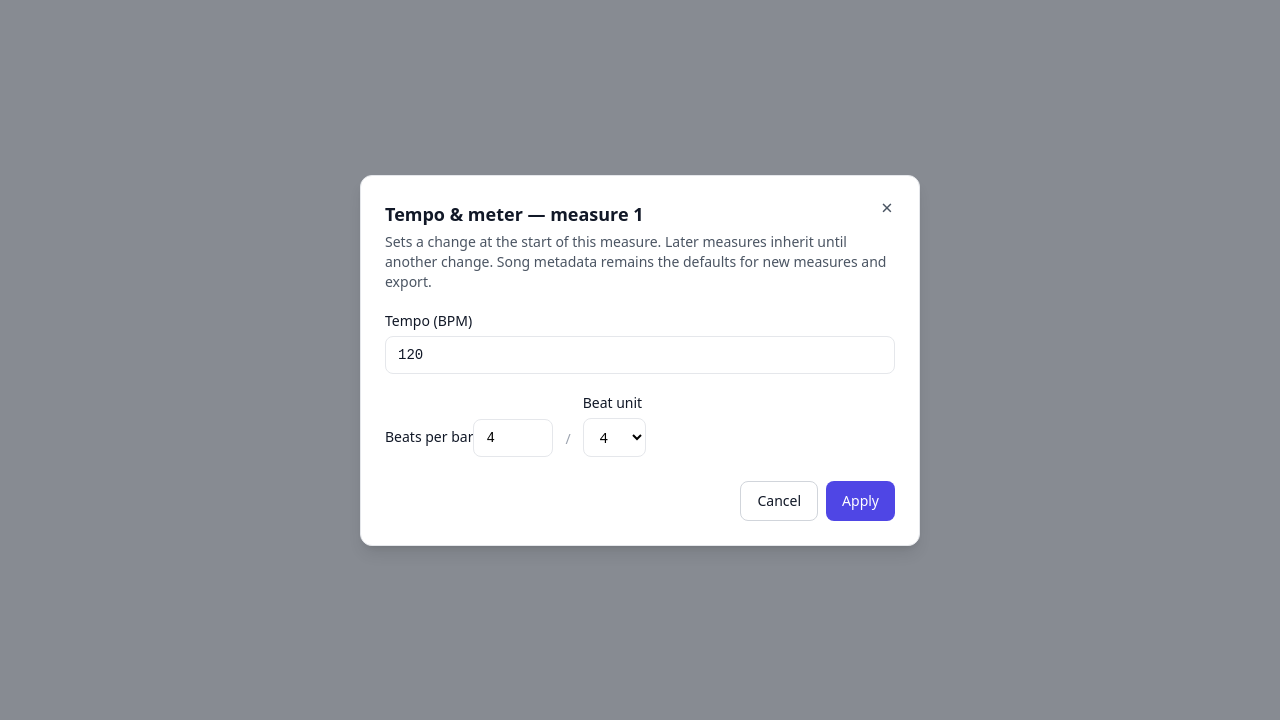
it: TempoMeterAtMeasureDialog — TASK-5.6 › rejects decimal tempo (does not round)
The width and height of the screenshot is (1280, 720).
Replace the text in the number field labelled "Tempo (BPM)" with "90.5" at (640, 354), box [385,336,895,374]
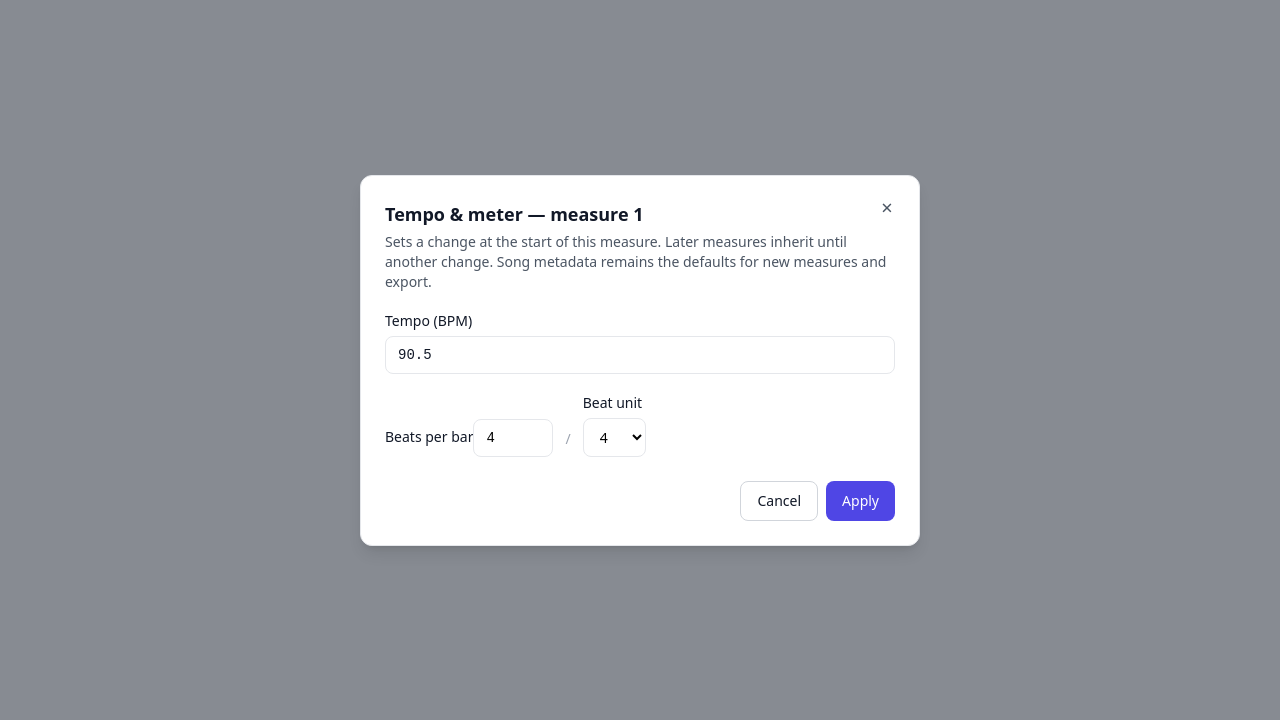
Click the button "Apply".
click(861, 500)  # box [826,480,895,520]
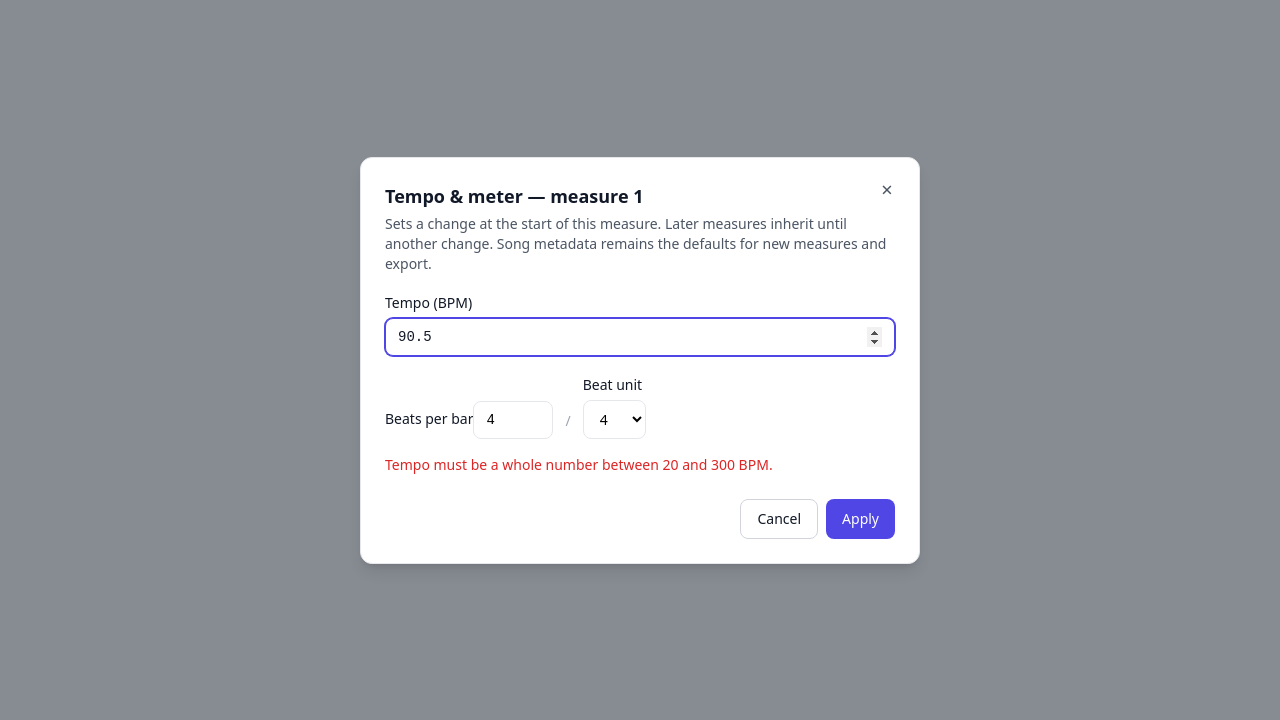
expect the message shows "whole number": met, box [385,454,773,474]
